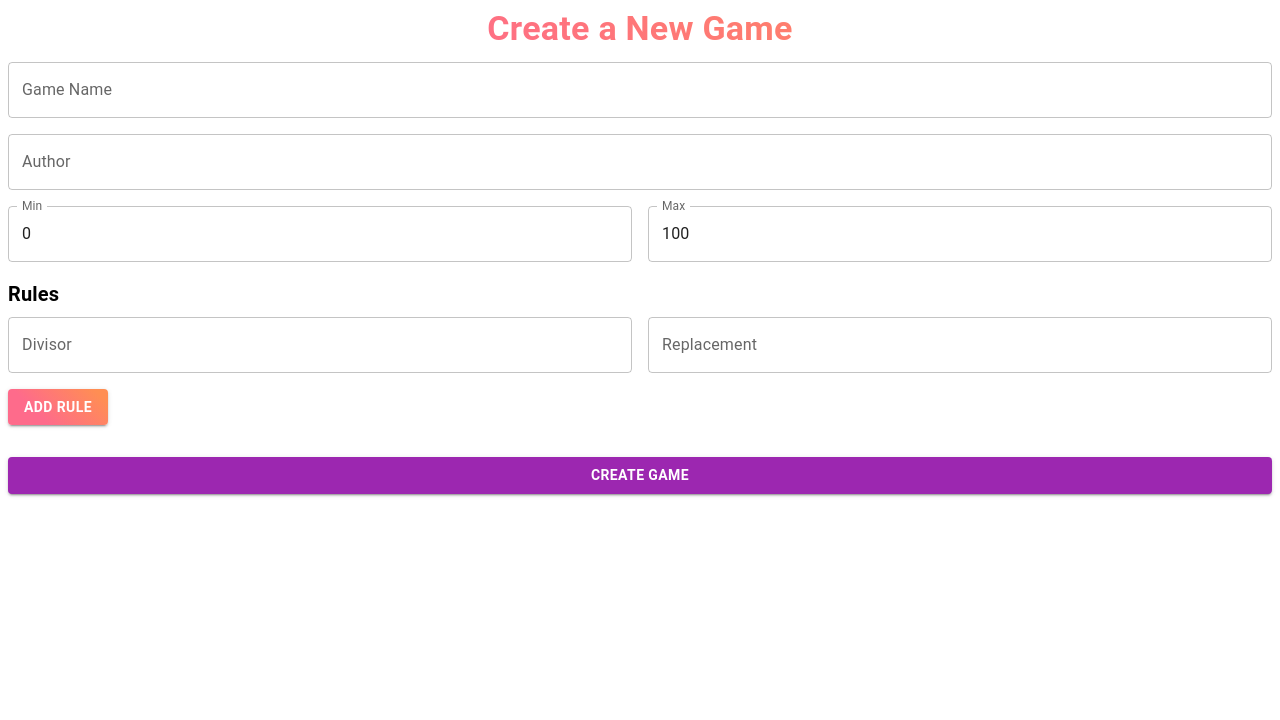
it: GameForm Component › shows error messages for invalid form fields
Step 1. Clear the number field labelled "Min" → (320, 234), box [8, 206, 632, 262]
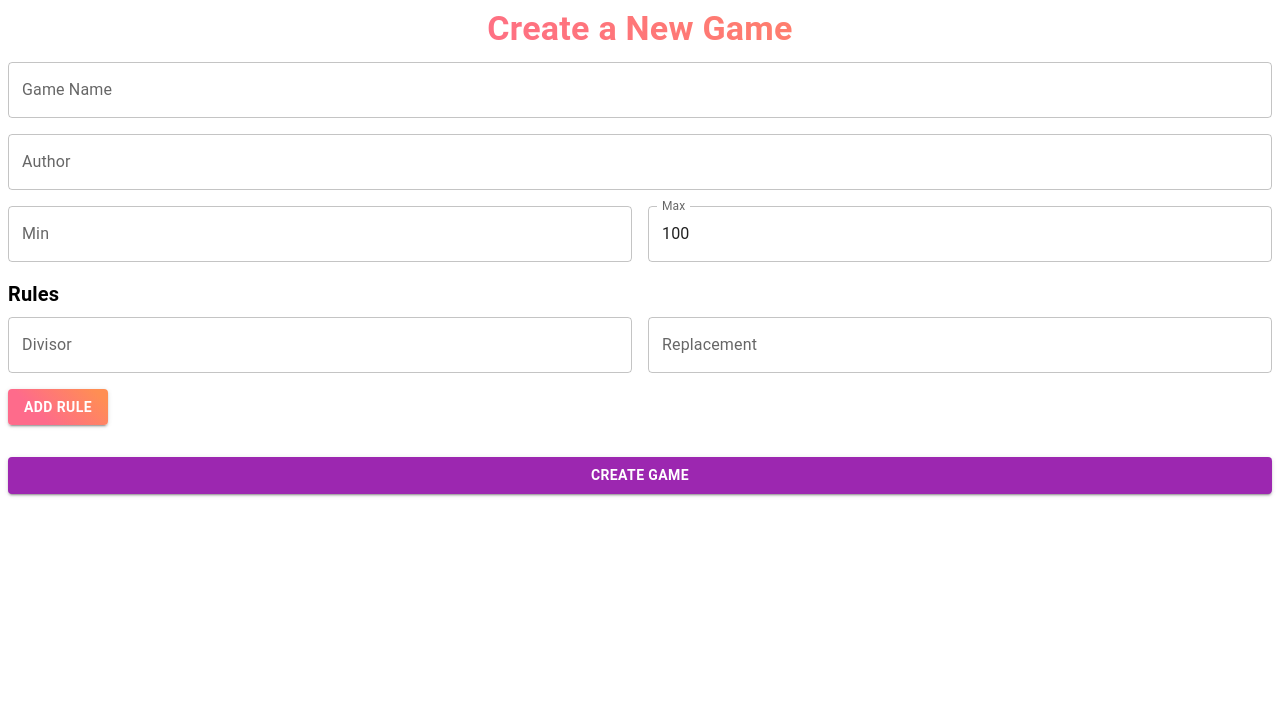
Step 2. Clear the number field labelled "Max" → (960, 234), box [648, 206, 1272, 262]
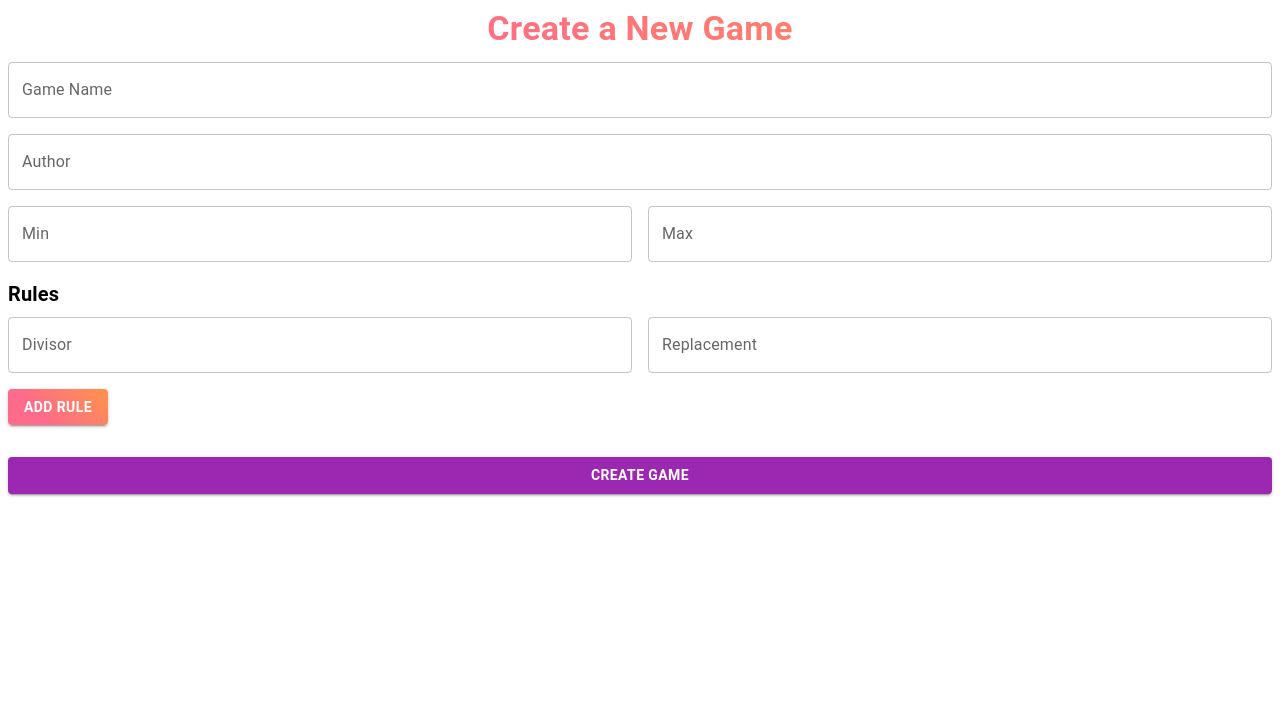
Step 3. Submit the form from the button "Create Game", box [8, 457, 1272, 494]
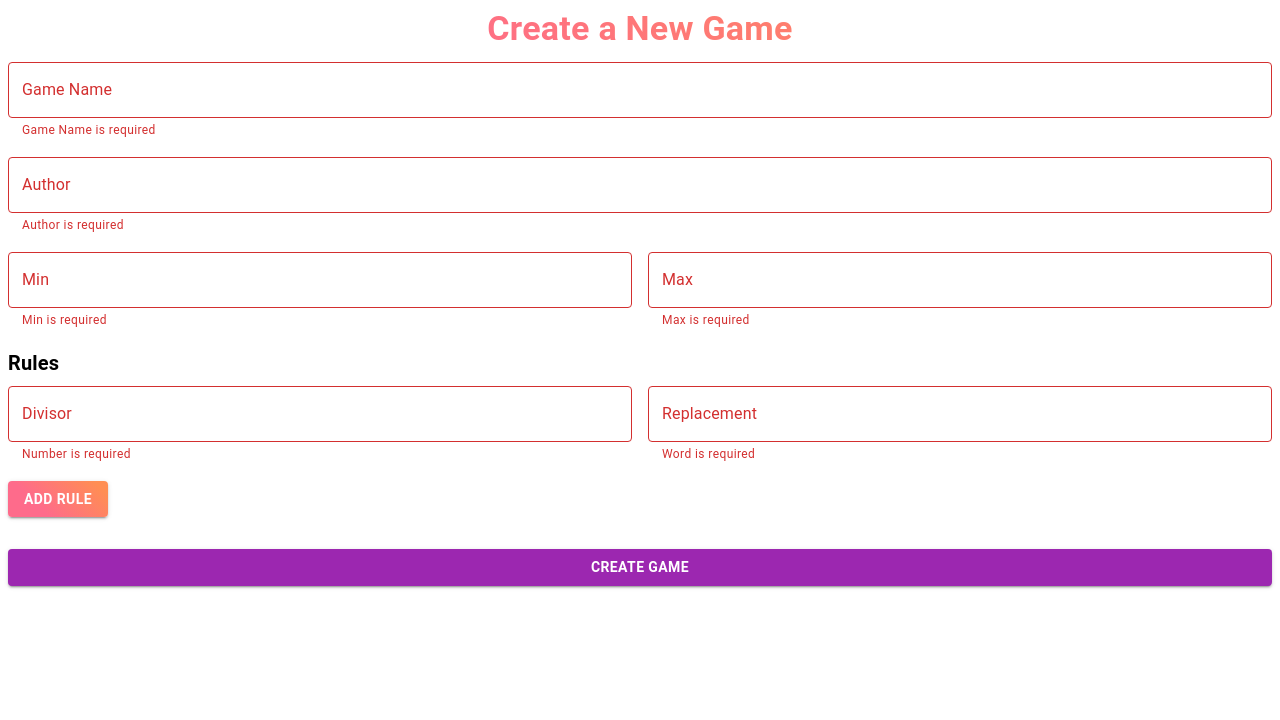
Expected: the text "Game Name is required" is shown, [22, 123, 156, 137]
Expected: the text "Author is required" is shown, [22, 218, 124, 232]
Expected: the text "Min is required" is shown, [22, 313, 107, 327]
